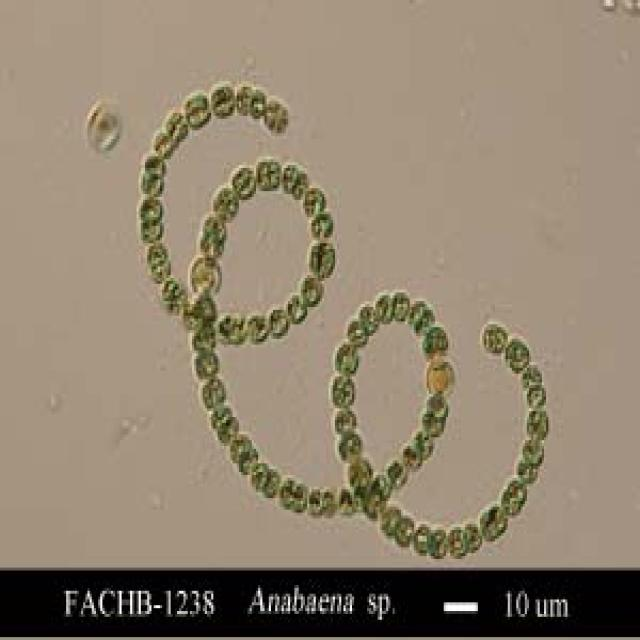Blue Green Algae: (307, 237, 337, 281), (326, 370, 358, 406), (181, 90, 209, 130), (482, 316, 506, 362), (160, 272, 183, 319), (209, 84, 237, 122), (333, 428, 365, 458), (518, 434, 550, 464), (516, 452, 540, 492), (504, 336, 531, 371), (265, 96, 288, 136), (230, 162, 254, 200), (196, 228, 224, 260), (243, 310, 271, 342), (134, 194, 167, 220), (162, 107, 188, 139), (420, 324, 446, 356), (299, 269, 322, 304), (213, 185, 237, 218), (151, 128, 175, 160), (134, 171, 167, 194), (192, 318, 215, 351), (282, 292, 307, 322), (190, 286, 215, 316), (190, 348, 220, 373), (344, 454, 369, 484), (523, 408, 548, 438), (201, 374, 224, 406), (410, 304, 433, 336), (141, 150, 168, 177), (331, 342, 356, 371), (258, 156, 277, 194), (309, 208, 333, 238), (420, 408, 444, 438), (139, 214, 166, 240), (356, 304, 382, 330), (463, 524, 484, 556), (506, 472, 529, 501), (267, 304, 286, 339), (446, 518, 465, 553), (412, 432, 437, 458), (390, 286, 408, 322), (301, 186, 324, 214), (386, 458, 408, 487), (343, 318, 367, 344), (209, 399, 230, 428), (218, 417, 239, 446), (525, 382, 546, 411), (482, 506, 501, 538), (495, 492, 523, 513), (335, 484, 352, 518), (234, 84, 252, 116), (375, 504, 397, 530), (329, 405, 356, 426), (518, 365, 542, 388), (226, 313, 245, 342), (429, 527, 446, 559), (262, 469, 282, 495), (392, 516, 412, 542), (250, 87, 266, 119), (376, 290, 392, 322), (403, 440, 422, 466), (412, 518, 426, 553), (143, 243, 164, 264), (230, 432, 250, 454), (429, 394, 448, 417), (280, 472, 294, 501), (282, 160, 296, 188), (250, 464, 266, 486), (239, 449, 254, 472), (309, 483, 320, 512)
